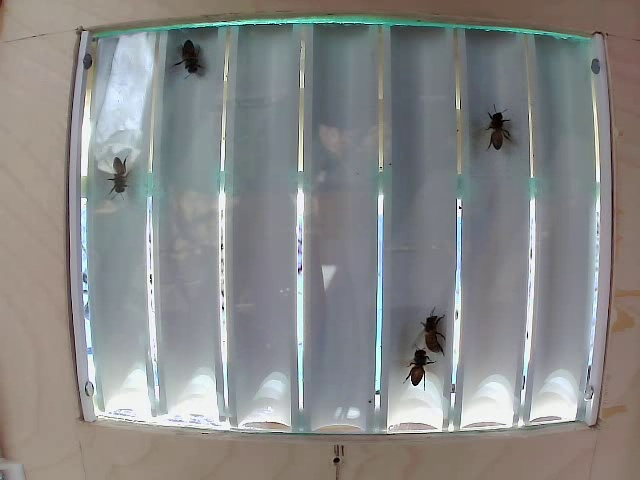bee: (168, 35, 216, 90), (467, 108, 517, 157), (408, 308, 463, 350), (394, 346, 438, 393), (106, 152, 141, 211)
